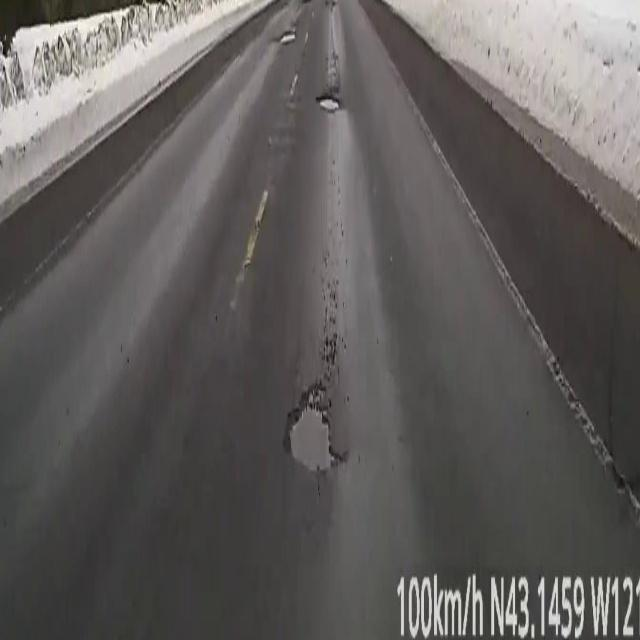pothole: (284, 385, 334, 469), (316, 98, 339, 110), (280, 32, 294, 44)
